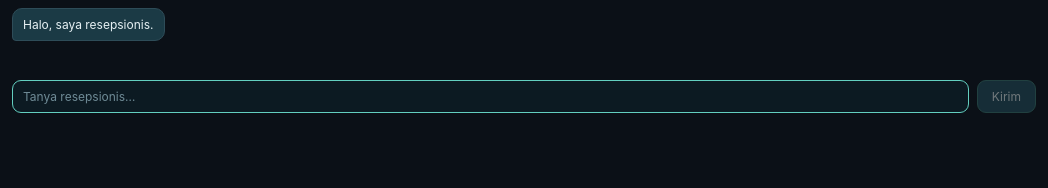
CharacterChat › shows a thinking state while the request is in flight
Later steps or results of the test are not shown.
Type "Halo" into the field labelled "Tanya resepsionis…" at x=490, y=96, box [12,80,969,113]
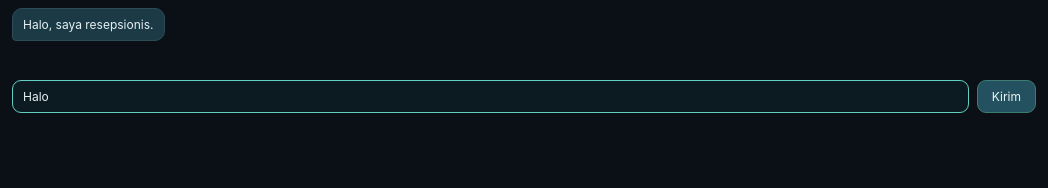
Click the button "Kirim" at x=1006, y=96, box [977,80,1036,113]
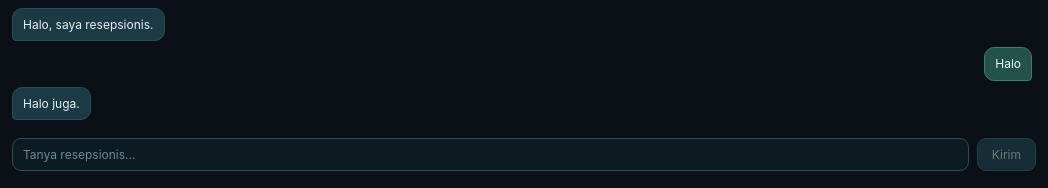
Expected: the button named "…" is disabled, [977,138,1036,171]
Expected: the text "Halo juga." is shown, [12,87,91,120]
